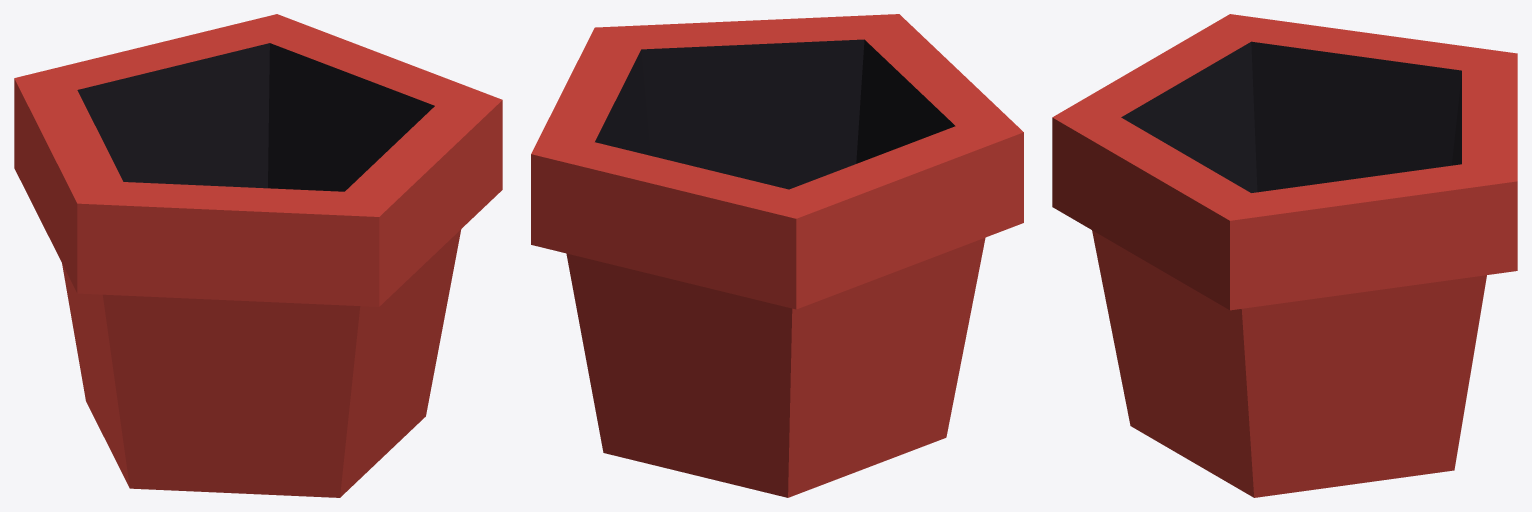
Rendered from Bucket.fbx.
The picture shows the model from 3 angles, left to right: view 1: azimuth 30°, elevation 25°; view 2: azimuth 150°, elevation 25°; view 3: azimuth 270°, elevation 25°; orthographic projection.
Visible parts, largest first — view 1: Bucket; view 2: Bucket; view 3: Bucket.
Boxes of the visible parts, x1,y1,x2,y2 form: Bucket: (14,14,502,497); Bucket: (531,14,1023,497); Bucket: (1052,14,1517,497).
Bounding box in the file's own units: 65.73 × 45.72 × 62.51.
